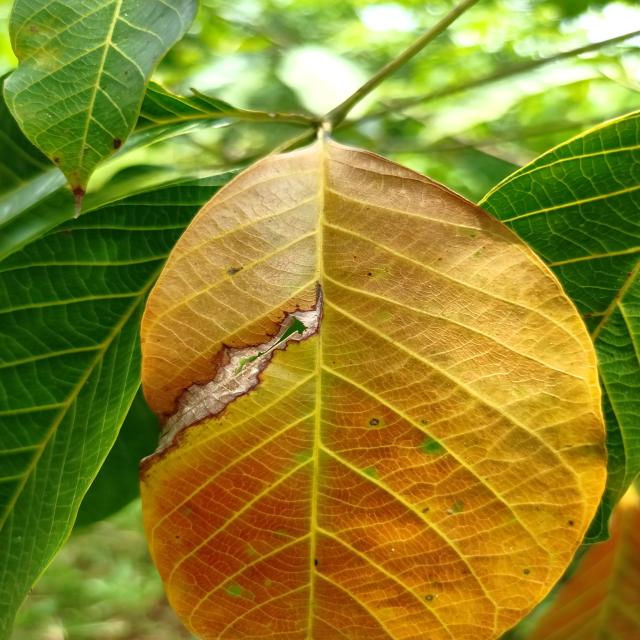Colletotrichum: (114, 139, 122, 150), (369, 418, 379, 426), (421, 419, 428, 424), (426, 595, 433, 600), (524, 569, 529, 574), (368, 272, 372, 276)
Leaf-Blight: (142, 308, 319, 462), (73, 189, 85, 219)
